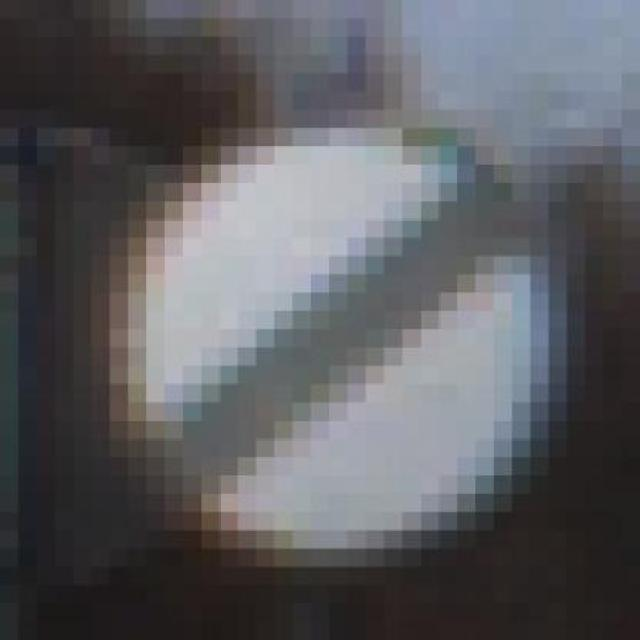End of all speed and passing limits: (128, 92, 568, 586)
